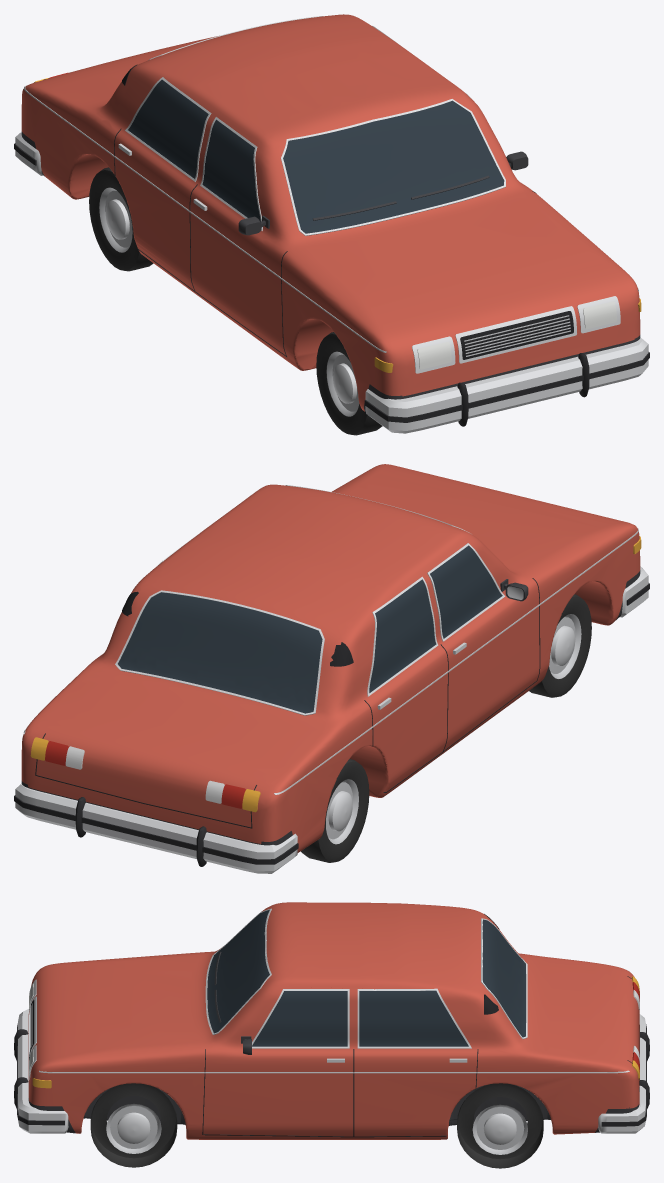
File: wartburg.glb
3 renders of one model, top to bottom at view 1: azimuth 30°, elevation 25°; view 2: azimuth 150°, elevation 25°; view 3: azimuth 270°, elevation 25°, orthographic. The views are drawn at different scales.
Parts seen in each view (by area): view 1: paint, glass, trim, wheel_rr, wheel_fr, headlights, mirrors; view 2: paint, glass, trim, wheel_rr, wheel_fr, taillights, reverse_lights; view 3: paint, glass, trim, wheel_rl, wheel_fl.
Part boxes in pixels (bbox=[...]): paint: bbox=[21, 14, 640, 411]; glass: bbox=[128, 79, 503, 233]; trim: bbox=[14, 16, 649, 433]; wheel_rr: bbox=[89, 167, 153, 271]; wheel_fr: bbox=[316, 332, 382, 435]; headlights: bbox=[417, 301, 616, 369]; mirrors: bbox=[238, 151, 528, 235]; paint: bbox=[21, 464, 640, 852]; glass: bbox=[118, 545, 502, 713]; trim: bbox=[14, 485, 649, 873]; wheel_rr: bbox=[301, 759, 369, 862]; wheel_fr: bbox=[529, 594, 591, 697]; taillights: bbox=[45, 741, 245, 808]; reverse_lights: bbox=[65, 746, 224, 803]; paint: bbox=[28, 902, 639, 1139]; glass: bbox=[207, 910, 525, 1046]; trim: bbox=[14, 905, 649, 1137]; wheel_rl: bbox=[457, 1083, 543, 1168]; wheel_fl: bbox=[90, 1083, 177, 1167].
Size of the model in its own units: 1.8 by 1.4 by 4.25.
